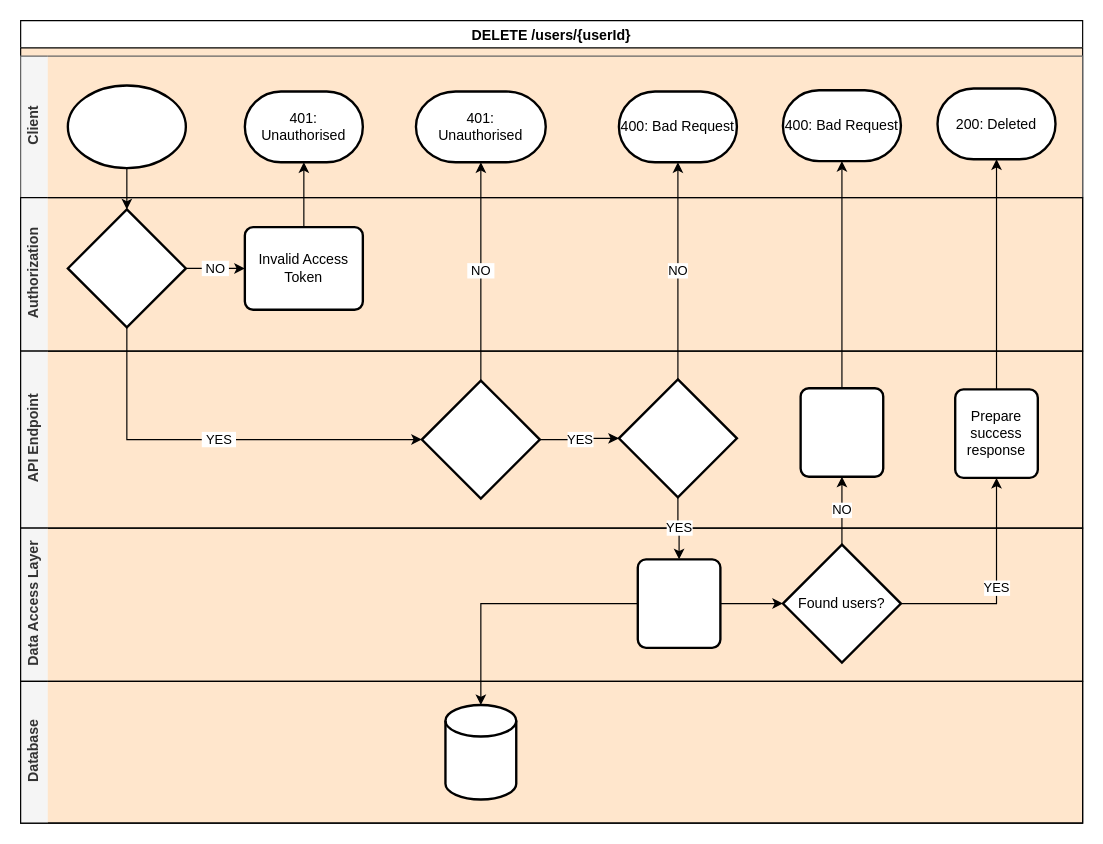
Image size: 1103x844. Some labels were removed from this diagram. Each missing label, with the centre of its shape:
Authorized?: point 126,268
DB: point 480,751
Prepare error response: point 841,431
Query delete user: point 678,603
Request: point 126,126
Validate role admin: point 480,439
Validate userId: point 677,438
